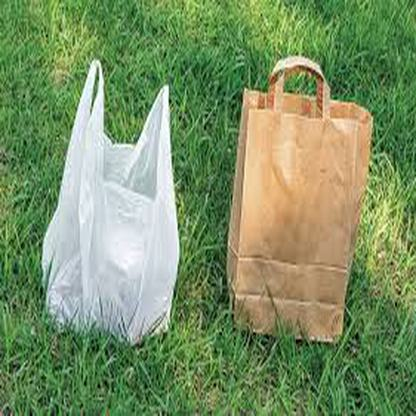plastic bag: (224, 54, 372, 344), (42, 58, 179, 343)
